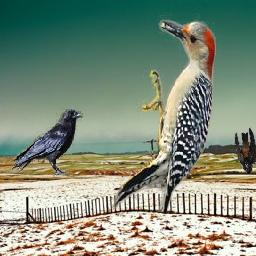Crow: (11, 107, 84, 178)
Swallow: (234, 127, 256, 173)
Woodpecker: (110, 12, 229, 212)
